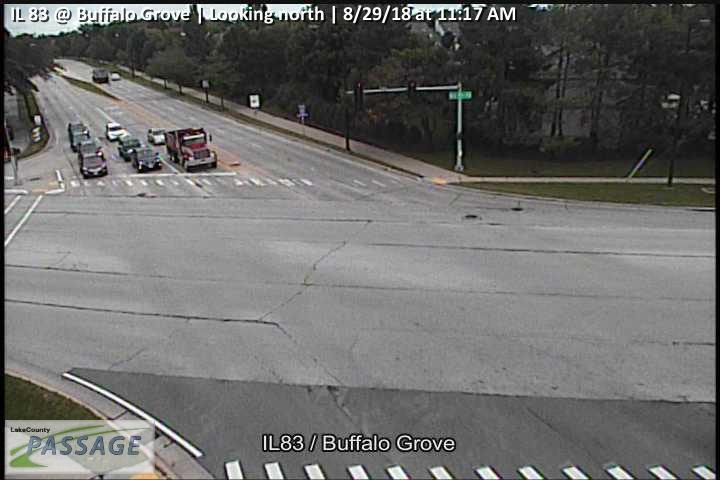SUV: (129, 146, 163, 172), (79, 151, 109, 178), (116, 134, 142, 162), (106, 122, 127, 142), (147, 127, 167, 146), (91, 67, 109, 83)
Truck: (164, 128, 218, 171)
